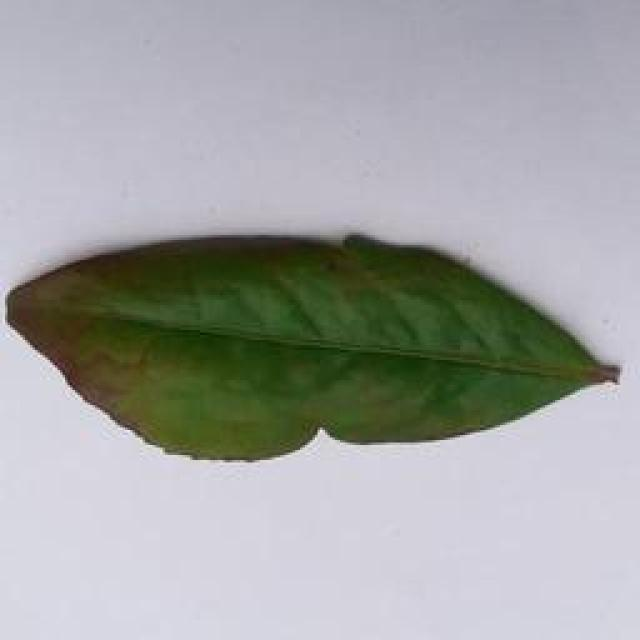Red Leaf Spot: (0, 230, 640, 464)
